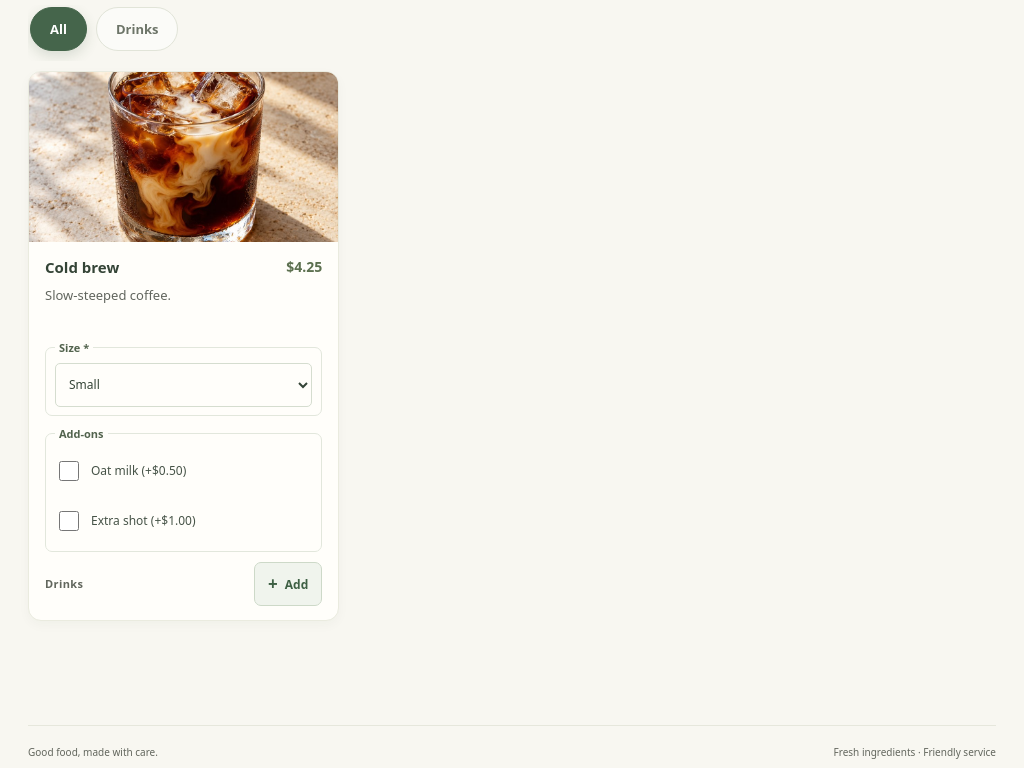
it: checkout client acceptance criteria › AC-M6 / AC-R6 lets the customer choose options and sends their IDs for server pricing
(page scrolled)
Step 1. Select "Large (+$1.25)" in the dropdown named "Size" → (184, 384), box [55, 362, 312, 406]
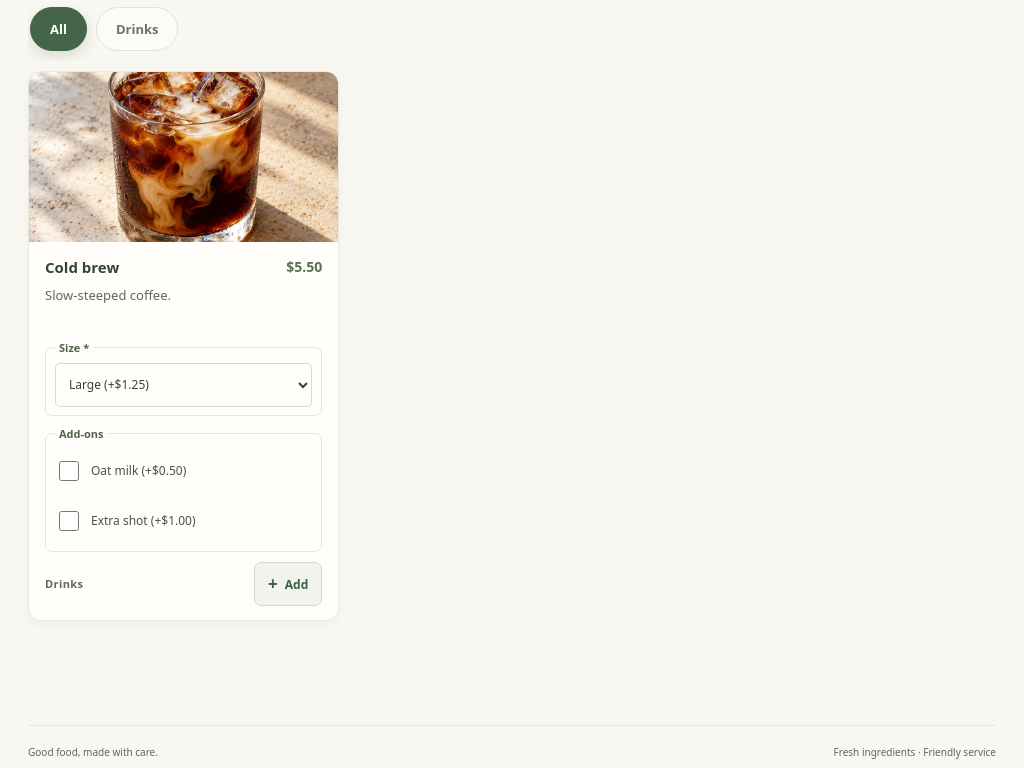
Step 2. Click the checkbox labelled "Oat milk (+$0.50)" → (69, 470), box [59, 460, 79, 480]
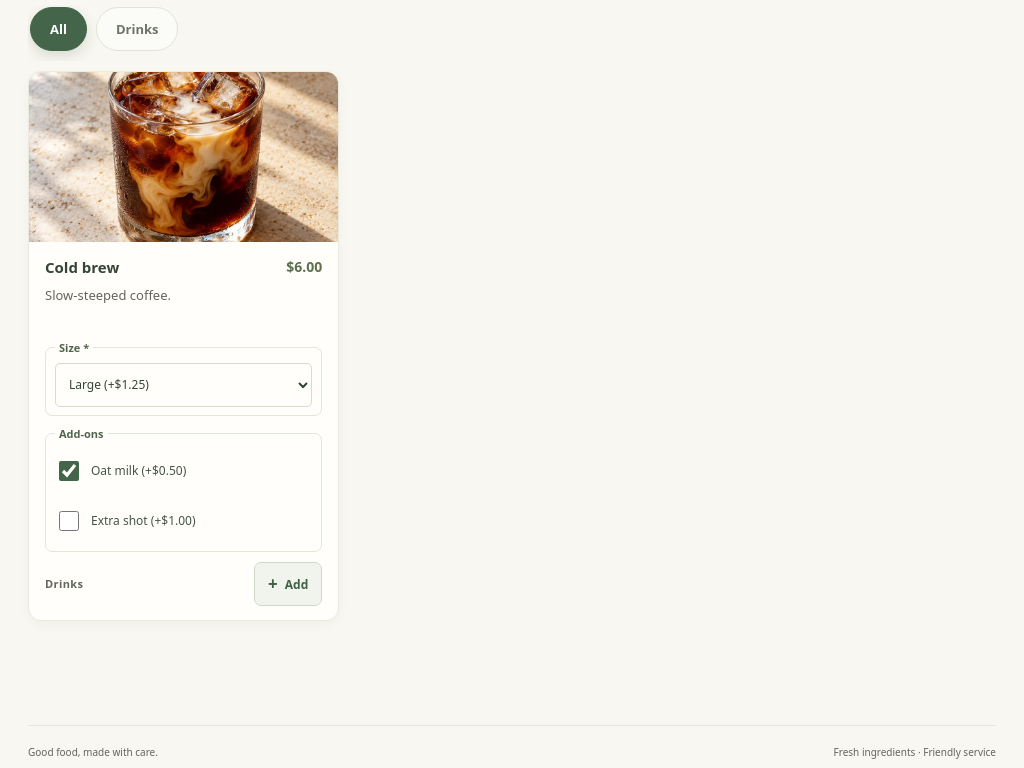
Step 3. Click the button with aria-label "Add Cold brew" → (288, 584), box [254, 562, 322, 606]
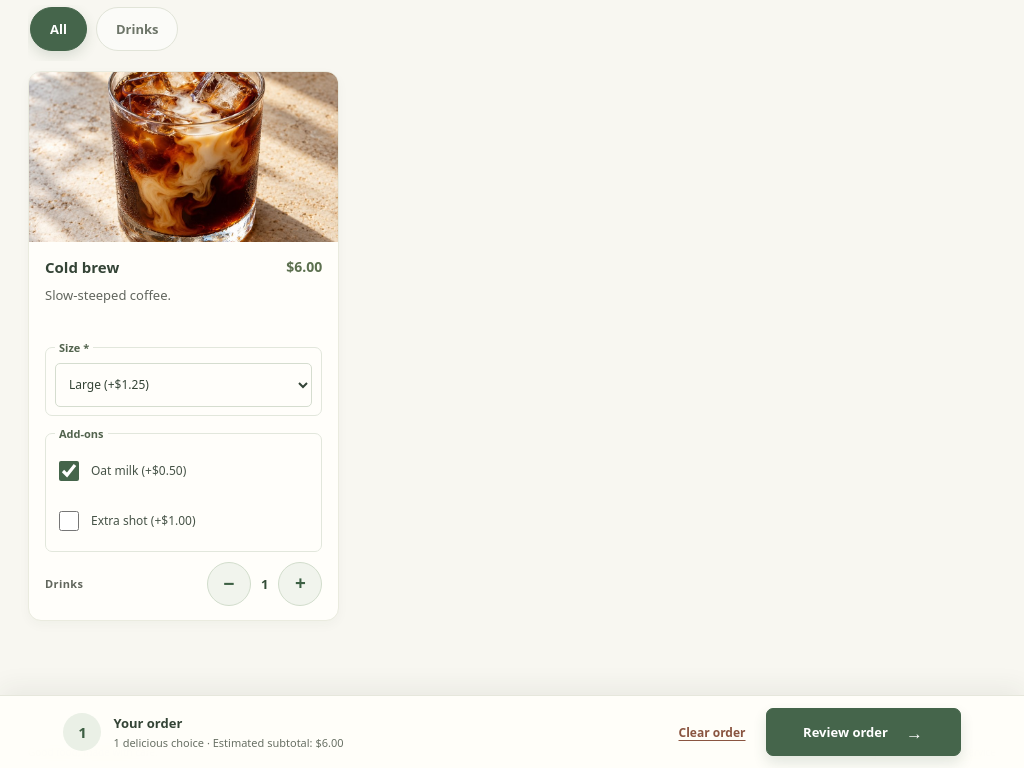
Expected: the text "$6.00" is shown, [286, 256, 322, 276]
Step 4. Click the button "Review order →" → (863, 732), box [766, 708, 960, 756]
(page scrolled)
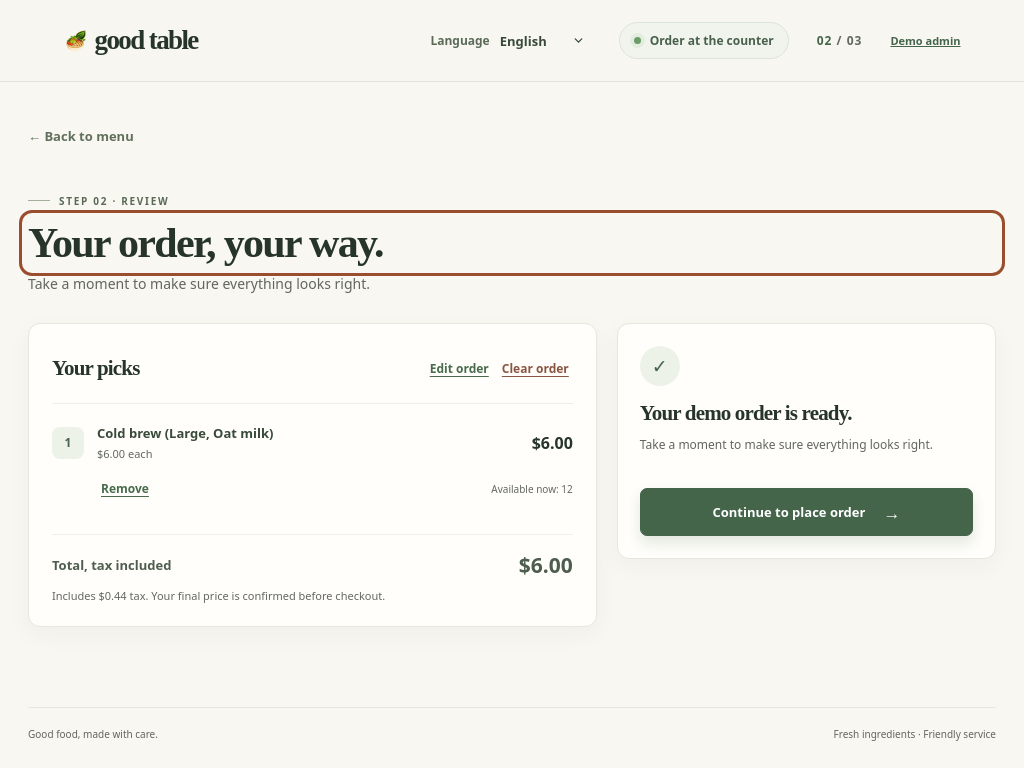
Expected: the text "Cold brew (Large, Oat milk)" is shown, [97, 424, 274, 442]
